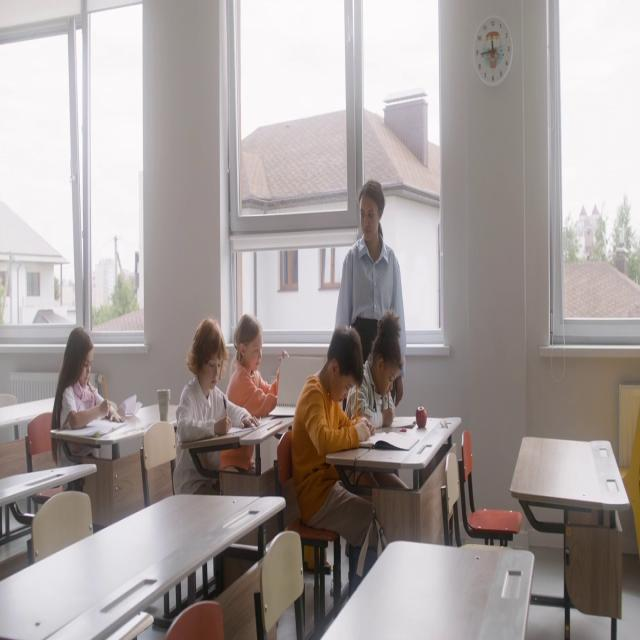reading: (228, 315, 290, 476)
writing: (290, 326, 388, 591), (162, 305, 260, 479), (52, 325, 125, 477), (345, 311, 403, 428)
